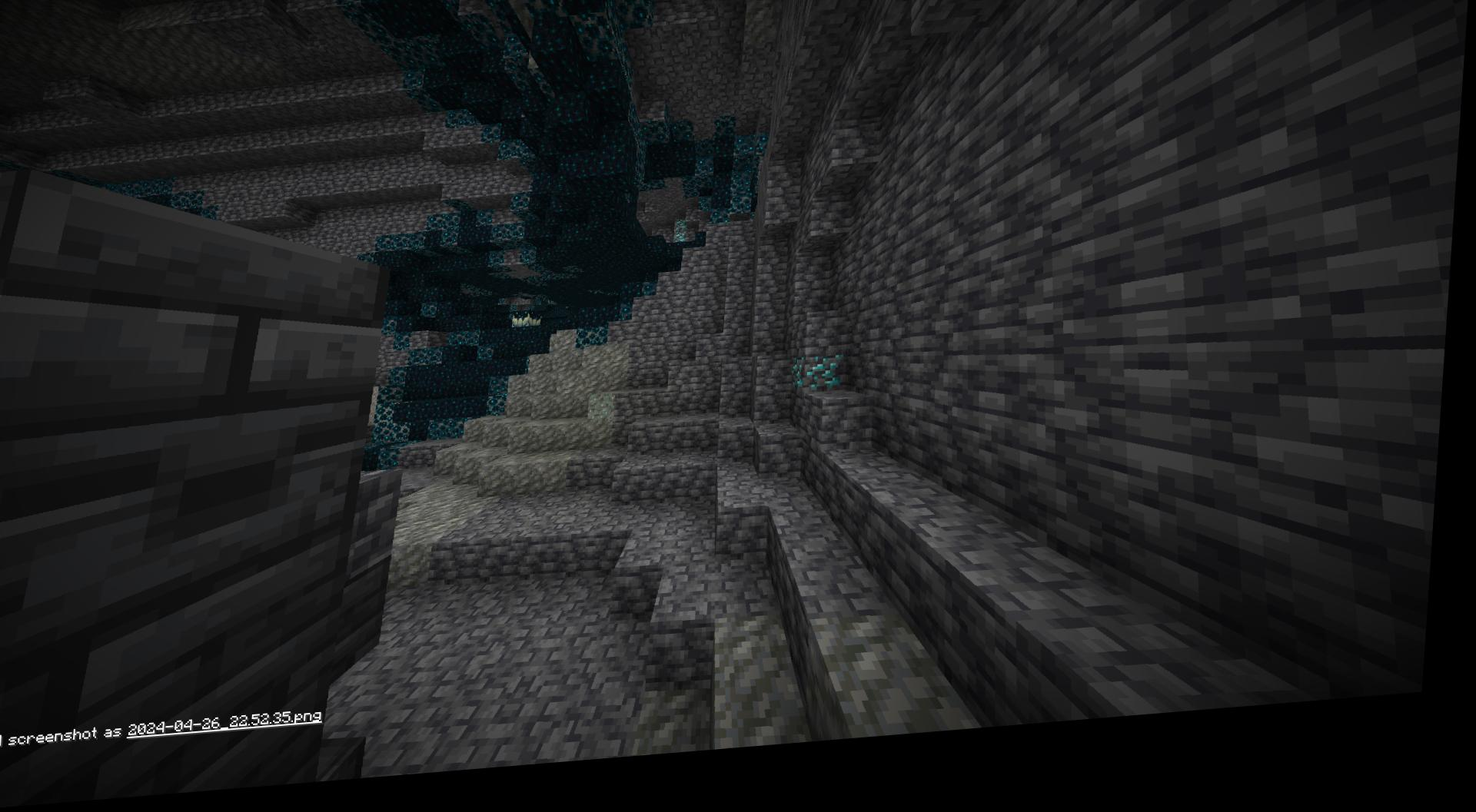diamond ore: (796, 363, 854, 411), (676, 228, 695, 257)
